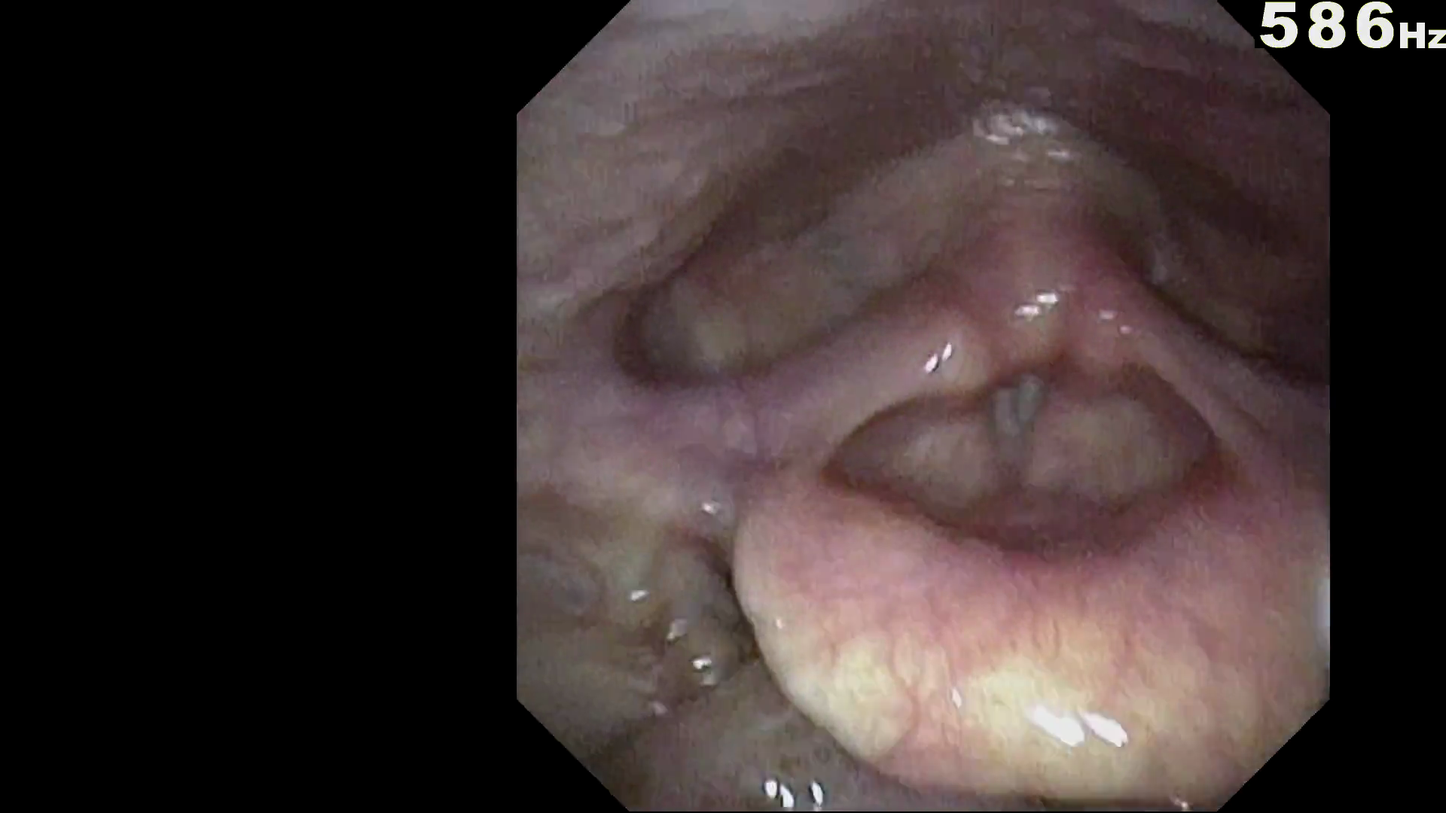epiglottis: (757, 519, 1278, 699)
